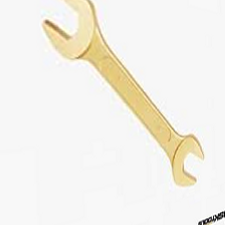wrench: (43, 2, 221, 189)
